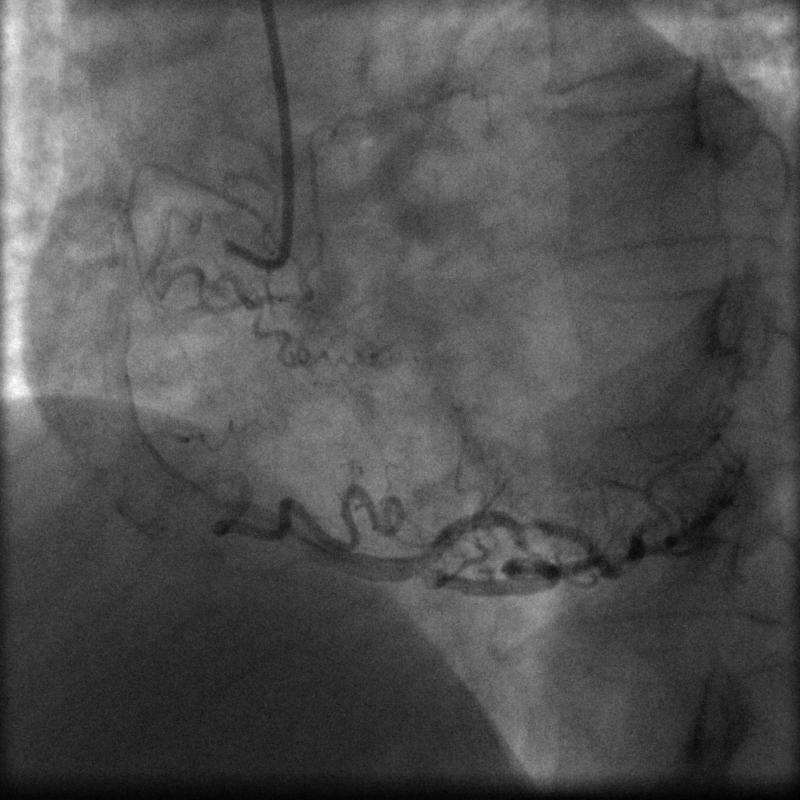Stenosis: (497, 508, 546, 543)
